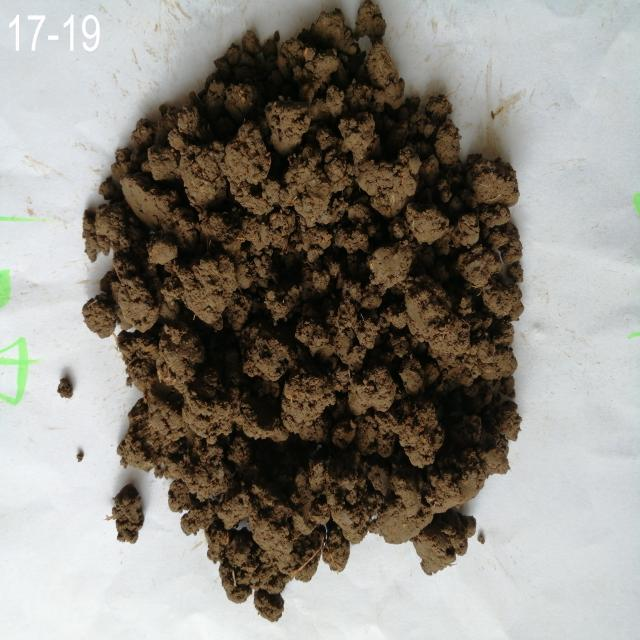soil: (168, 110, 472, 505)
